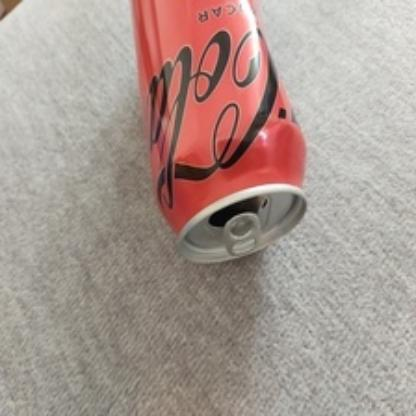Can: (131, 0, 309, 262)
